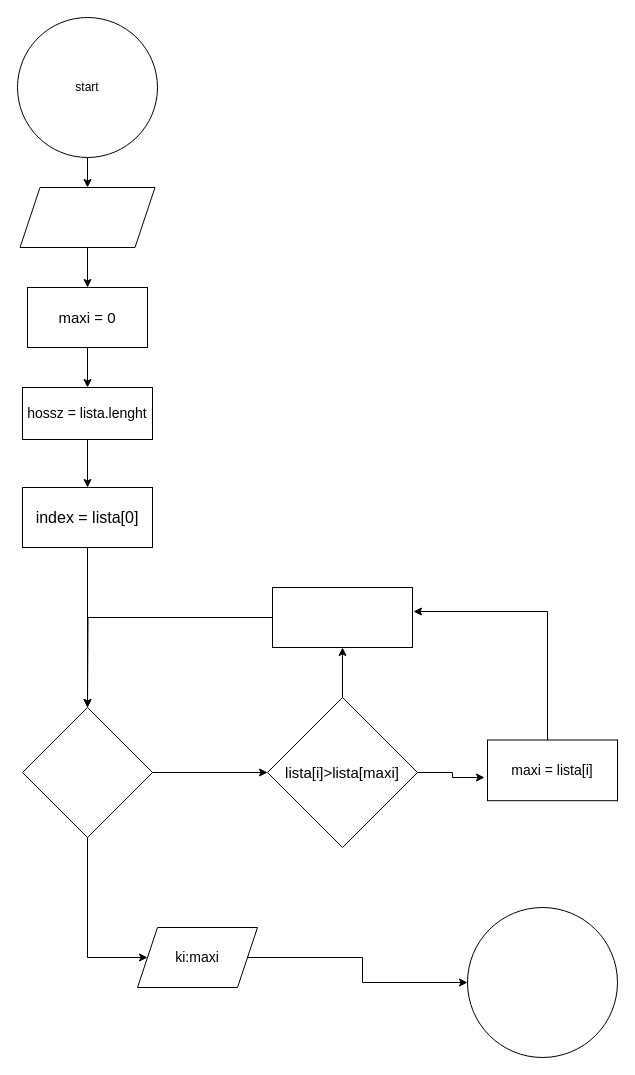
Image size: 635x1075. Some labels were removed from this diagram. Each missing label, with the centre of its shape:
"be:lista" goes at pixel 87 217.
"end" goes at pixel 542 982.
"hossz = index" goes at pixel 87 772.
"index += 1" goes at pixel 342 617.
